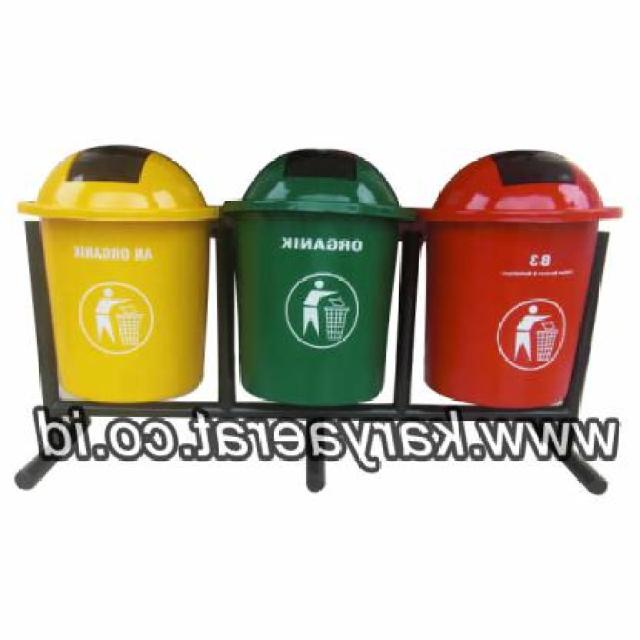garbage container: (12, 132, 226, 420), (408, 143, 628, 409), (218, 140, 419, 412)
